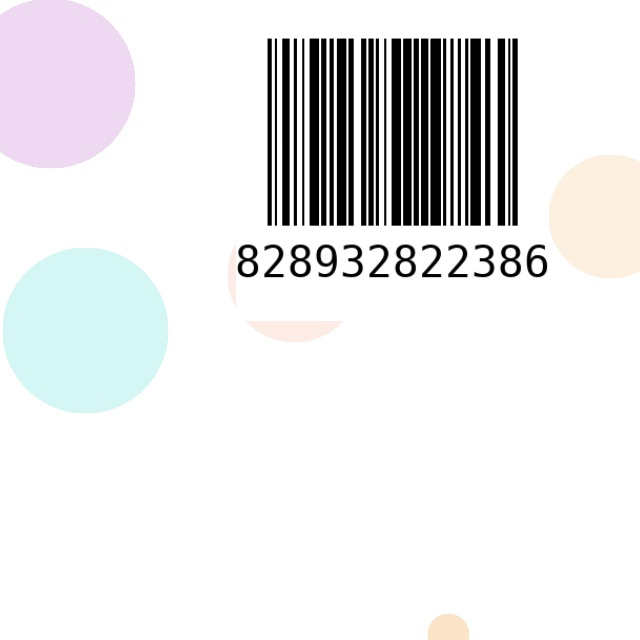barcode: (236, 27, 549, 321)
